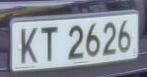2: (65, 21, 86, 66), (102, 18, 119, 62)
6: (84, 20, 102, 63), (117, 18, 133, 58)
K: (14, 22, 42, 70)
T: (39, 23, 62, 68)
